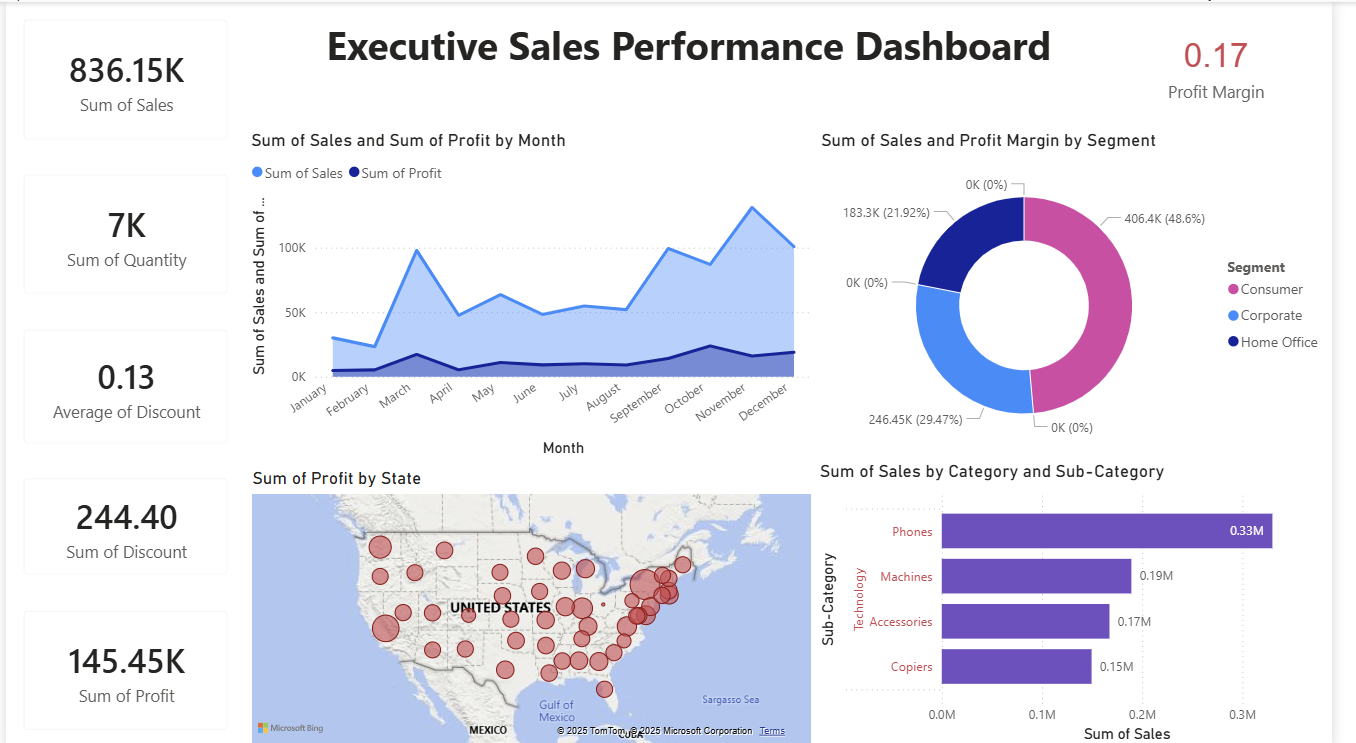

This screenshot's page, from the dashboard's own definition file:
{"tool":"powerbi","page":{"name":"Page 1","canvas":[1280,720],"ordinal":0},"visuals":[{"type":"cardVisual","fields":{"Data":["Sum(Sample - Superstore.Sales)"]},"box":[0,0,231.7,150],"z":0},{"type":"textbox","box":[304,10.9,737.1,83.2],"z":1000},{"type":"cardVisual","fields":{"Data":["Sum(Sample - Superstore.Profit)"]},"box":[0,571.1,231.1,149.2],"z":2000},{"type":"cardVisual","fields":{"Data":["Sum(Sample - Superstore.Quantity)"]},"box":[0,149.6,231.6,149.6],"z":3000},{"type":"cardVisual","fields":{"Data":["Avg(Sample - Superstore.Discount)"]},"box":[0,299.2,231.6,144.8],"z":4000},{"type":"lineChart","fields":{"Category":["Sample - Superstore.Order Date.Variation.Date Hierarchy.Year","Sample - Superstore.Order Date.Variation.Date Hierarchy.Quarter","Sample - Superstore.Order Date.Variation.Date Hierarchy.Month","Sample - Superstore.Order Date.Variation.Date Hierarchy.Day"],"Y":["Sum(Sample - Superstore.Sales)","Sum(Sample - Superstore.Profit)"]},"box":[231.1,123.5,550.3,320.4],"z":5000},{"type":"cardVisual","fields":{"Data":["Sum(Sample - Superstore.Discount)"]},"box":[0,442.8,231.6,127.9],"z":6000},{"type":"map","fields":{"Category":["Sample - Superstore.State"],"Size":["Sum(Sample - Superstore.Profit)"]},"box":[232.3,448.8,549.1,271.5],"z":7000},{"type":"barChart","fields":{"Y":["Sum(Sample - Superstore.Sales)"],"Category":["Sample - Superstore.Category","Sample - Superstore.Sub-Category"]},"box":[780.8,443.2,499.5,277.2],"z":8000},{"type":"donutChart","fields":{"Category":["Sample - Superstore.Segment"],"Y":["Sum(Sample - Superstore.Sales)","Sample - Superstore.Profit Margin"]},"box":[781.4,123.5,498.9,319.2],"z":9000},{"type":"card","fields":{"Values":["Sample - Superstore.Profit Margin"]},"box":[1055.3,0,225,123.5],"z":10000}]}

Visuals, with their boxes in screenshot pixels (x1, y1, x2, y2), scaled from the page's 1280x720 canvas onto the 1356x743 screenshot:
cardVisual - Sum(Sample - Superstore.Sales): bbox=[0, 0, 245, 155]
textbox: bbox=[322, 11, 1103, 97]
cardVisual - Sum(Sample - Superstore.Profit): bbox=[0, 589, 245, 742]
cardVisual - Sum(Sample - Superstore.Quantity): bbox=[0, 154, 245, 309]
cardVisual - Avg(Sample - Superstore.Discount): bbox=[0, 309, 245, 458]
lineChart - Sample - Superstore.Order Date.Variation.Date Hierarchy.Year x Sample - Superstore.Order Date.Variation.Date Hierarchy.Quarter: bbox=[245, 127, 828, 458]
cardVisual - Sum(Sample - Superstore.Discount): bbox=[0, 457, 245, 589]
map - Sample - Superstore.State x Sum(Sample - Superstore.Profit): bbox=[246, 463, 828, 742]
barChart - Sum(Sample - Superstore.Sales) x Sample - Superstore.Category: bbox=[827, 457, 1355, 742]
donutChart - Sample - Superstore.Segment x Sum(Sample - Superstore.Sales): bbox=[828, 127, 1355, 457]
card - Sample - Superstore.Profit Margin: bbox=[1118, 0, 1355, 127]
